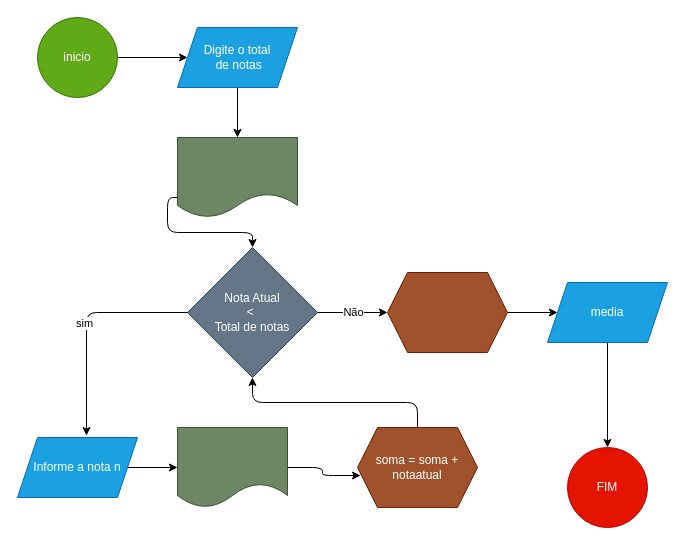
This 685x545 diagram has some shape labels left out. Each missing label, with the box of its shape:
Ler nota atual: (176, 426, 288, 508)
Ler total de notas: (176, 136, 298, 218)
media = soma /total de notas: (386, 272, 508, 352)
